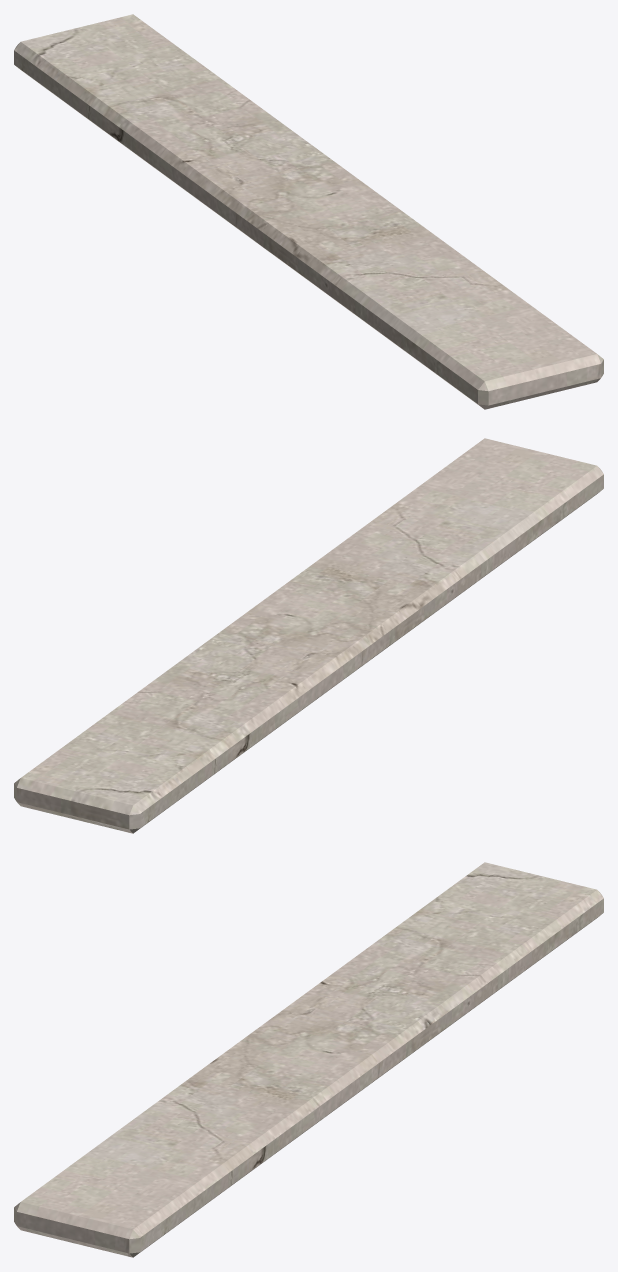
Rendered from pasted__marble_tile_165.fbx.
3 views of the same model, one above another, from view 1: azimuth 30°, elevation 25°; view 2: azimuth 150°, elevation 25°; view 3: azimuth 330°, elevation 25° (orthographic).
Visible parts, largest first — view 1: pasted__marble_tile_165; view 2: pasted__marble_tile_165; view 3: pasted__marble_tile_165.
Part boxes in pixels (x1,y1,x2,y2): pasted__marble_tile_165: [14, 14, 603, 409]; pasted__marble_tile_165: [14, 438, 603, 833]; pasted__marble_tile_165: [14, 862, 603, 1257].
Bounding box in the file's own units: 30.45 × 198 × 6.55.
